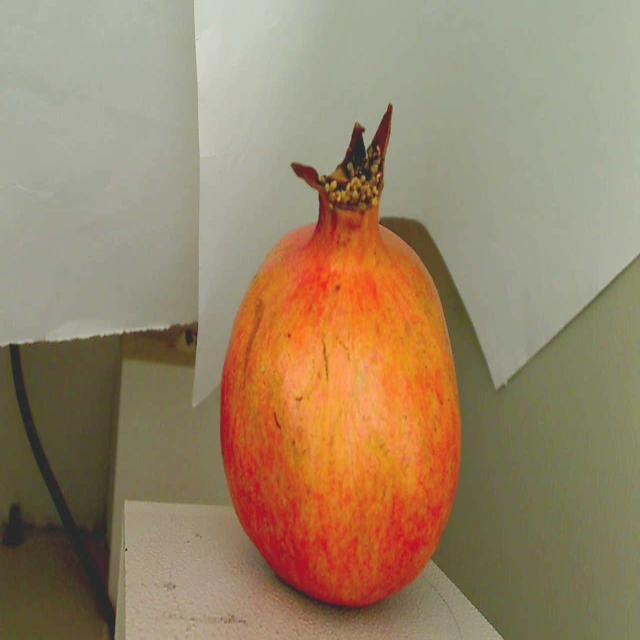pomegranate: (215, 102, 465, 614)
